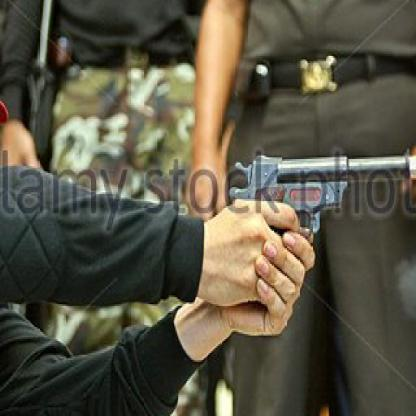gun: (228, 143, 414, 324)
